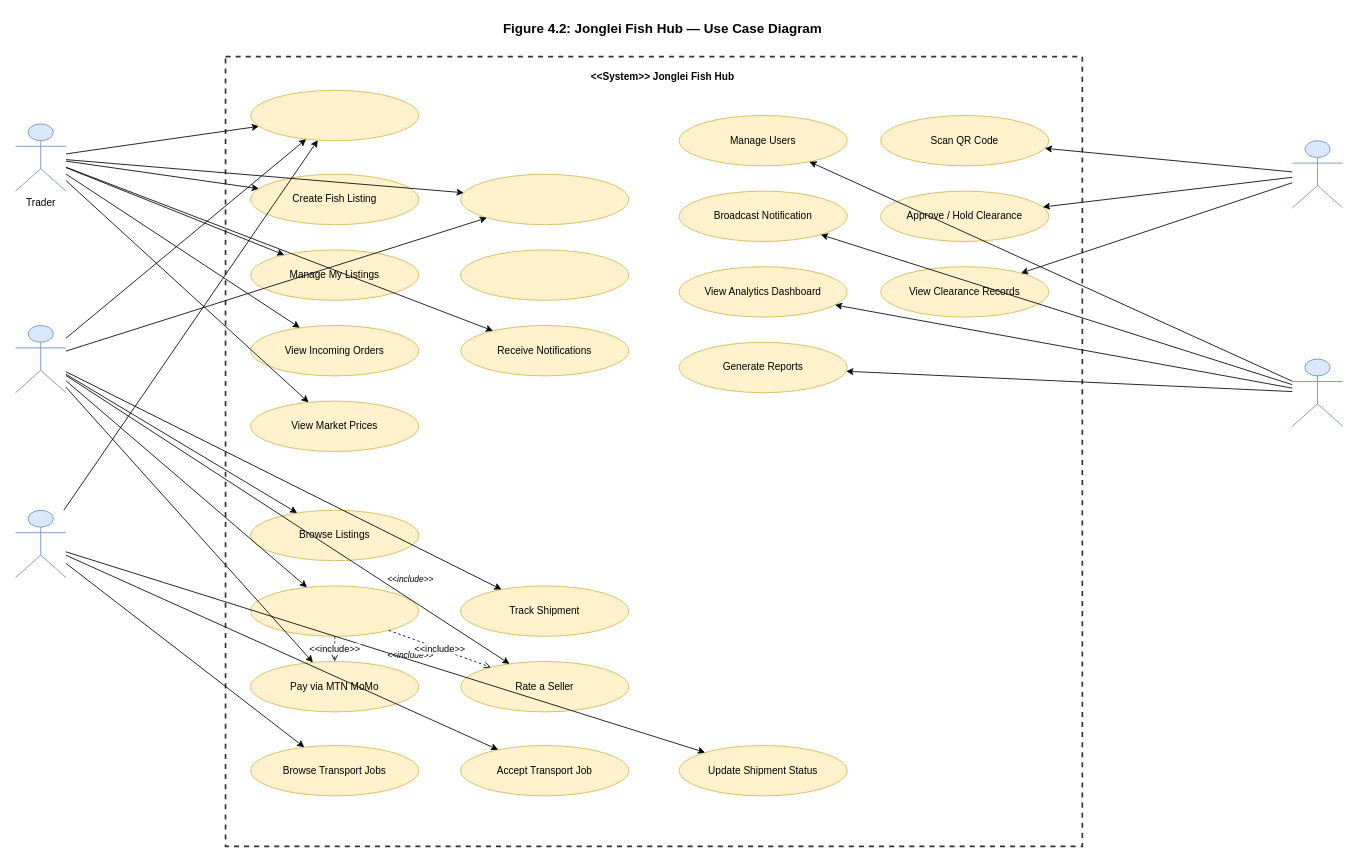
Image size: 1363x861. Some labels were removed from this diagram. The centre of each missing label's shape, as x and y in pixels:
"Administrator" goes at (x=1317, y=392).
"Border Official" goes at (x=1317, y=174).
"Buyer" goes at (x=40, y=359).
"Place an Order" goes at (x=334, y=610).
"Rate a Buyer" goes at (x=544, y=274).
"Register / Phone OTP Login" goes at (x=334, y=115).
"Send / Receive Messages" goes at (x=544, y=199).
"Transporter" goes at (x=40, y=543).
